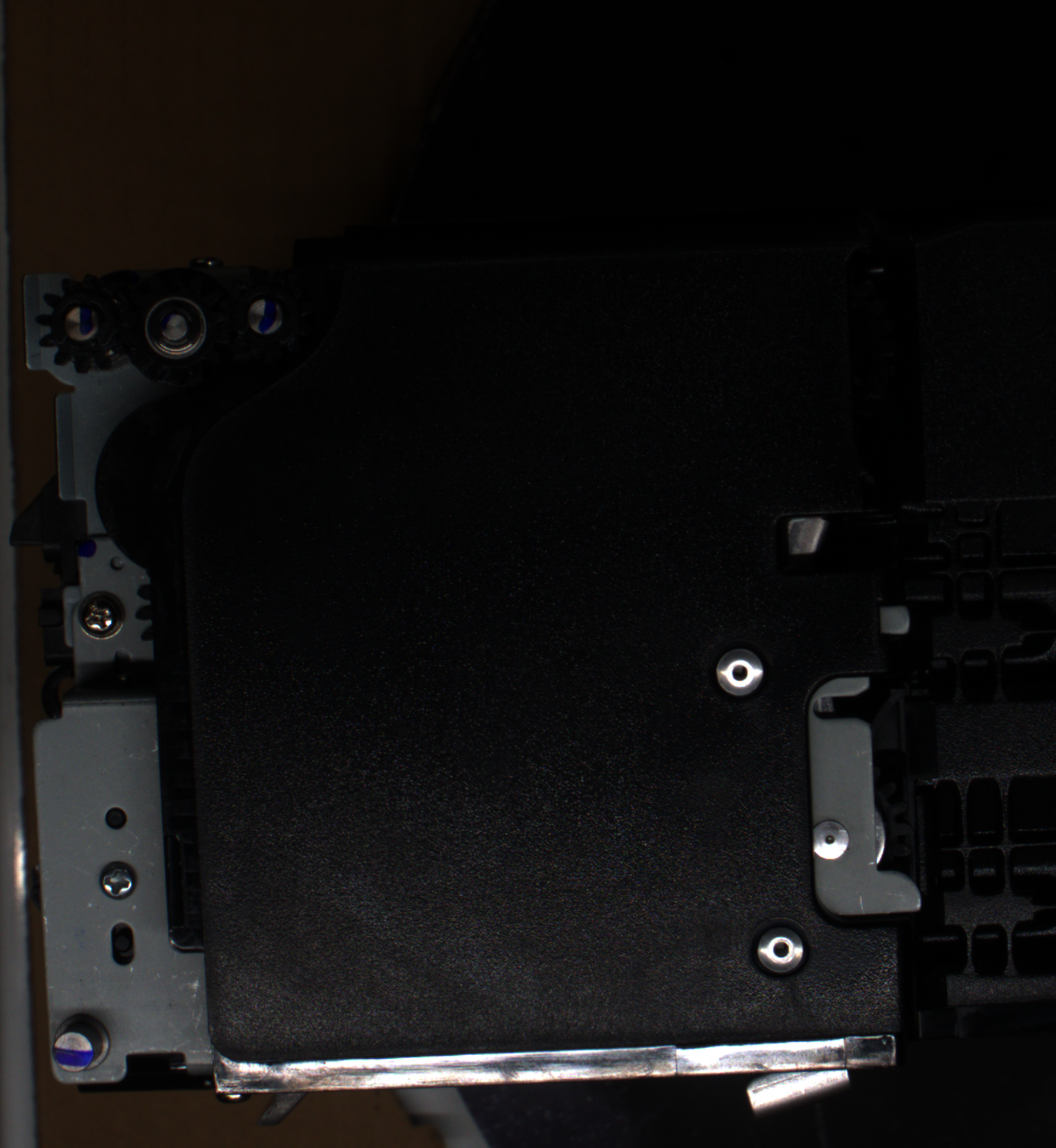centre_pin_presence: (740, 1055, 856, 1120)
centre_plate_presence: (800, 667, 931, 936)
centre_screw_presence: (744, 912, 814, 987), (704, 635, 775, 705)
gear1_presence: (34, 270, 135, 375)
gear2_presence: (120, 267, 232, 390)
gear3_presence: (214, 270, 315, 370)
side_screw_presence: (74, 588, 128, 640), (94, 858, 140, 901)
slanting_pin_presence: (48, 1010, 119, 1078)
